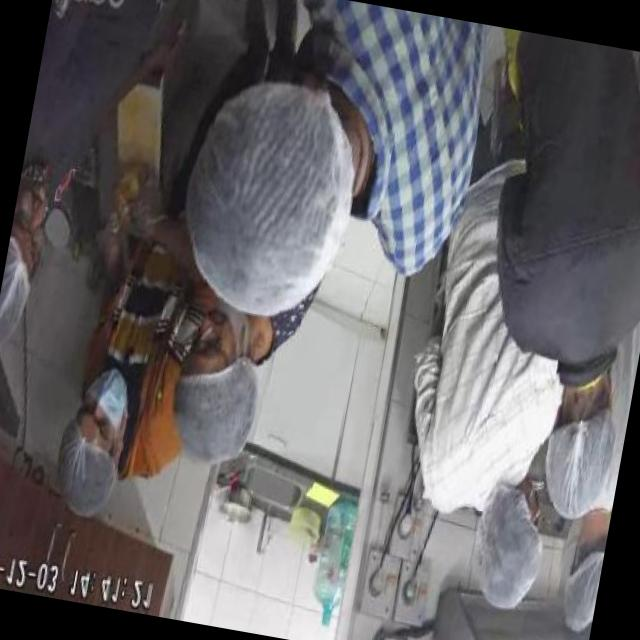hairnet: (180, 71, 360, 307), (163, 367, 260, 468), (472, 482, 547, 609), (46, 411, 128, 518), (539, 402, 616, 503), (0, 235, 34, 353), (563, 547, 604, 634)
